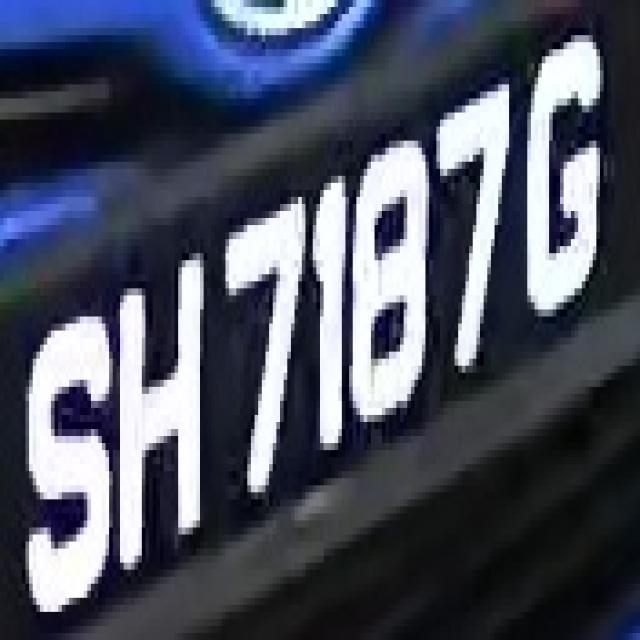1: (316, 148, 349, 485)
7: (218, 183, 313, 506), (418, 77, 513, 394)
8: (345, 141, 440, 443)
G: (524, 0, 614, 345)
H: (116, 218, 229, 570)
S: (25, 274, 120, 626)
